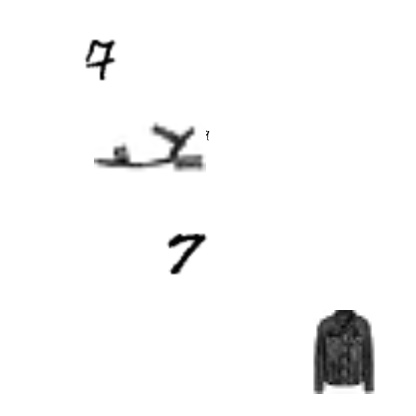3: (283, 284, 395, 396), (205, 135, 247, 177)
Ankle_boot: (256, 139, 368, 251), (65, 241, 177, 353), (34, 211, 76, 253), (17, 4, 45, 32)
